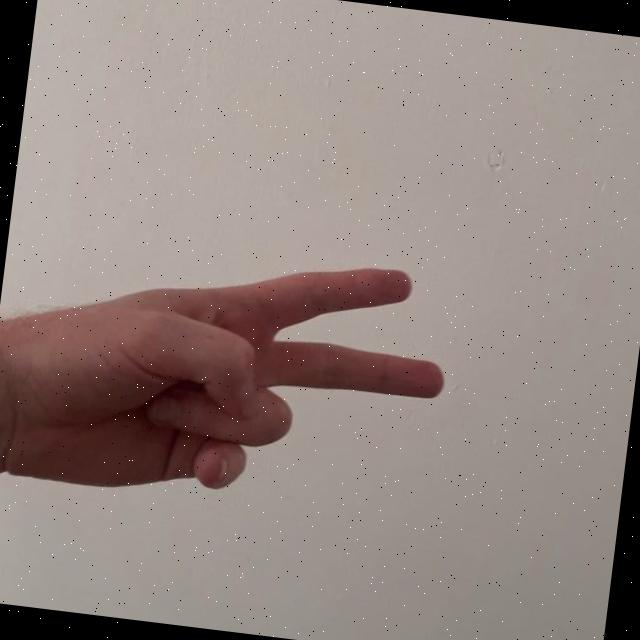scissors: (8, 222, 462, 526)
